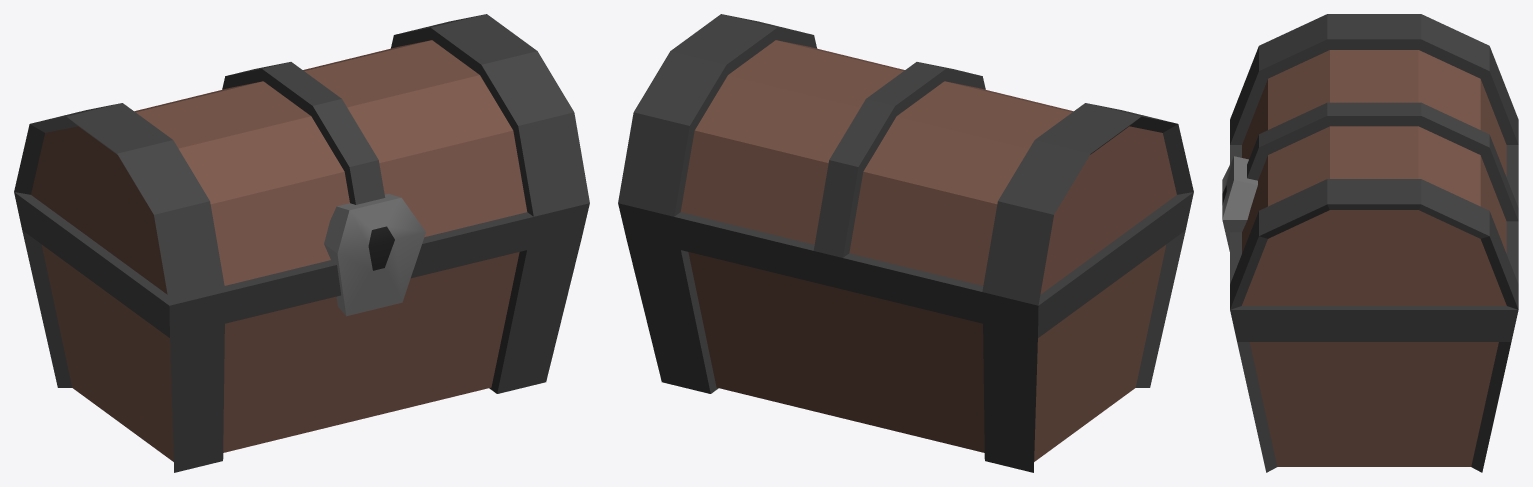
Rendered from prop_061.fbx.
3 renders of one model, left to right at view 1: azimuth 30°, elevation 25°; view 2: azimuth 150°, elevation 25°; view 3: azimuth 270°, elevation 25°, orthographic. The views are drawn at different scales.
Parts seen in each view (by area): view 1: prop.061; view 2: prop.061; view 3: prop.061.
Boxes of the visible parts, <box> form: prop.061: <box>14,14,589,472</box>; prop.061: <box>618,14,1193,472</box>; prop.061: <box>1222,14,1518,472</box>.
Bounding box in the file's own units: 206 × 141 × 136.
Materials: 1 (1 with a texture image).
